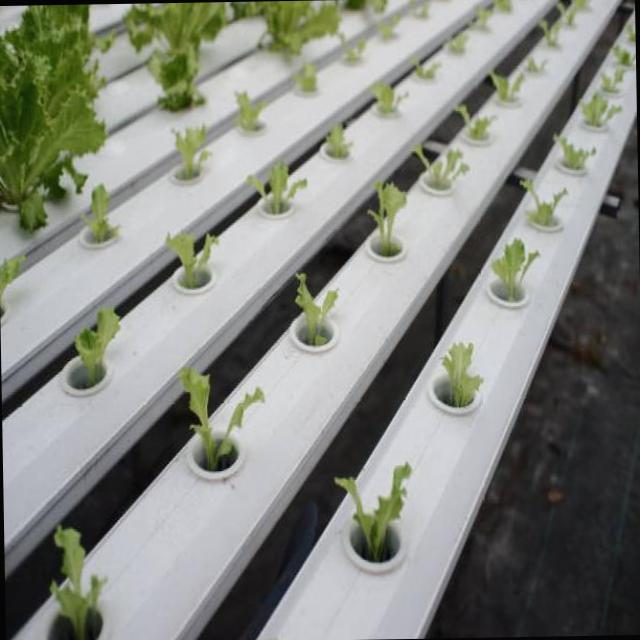Lettuce-Not-Ready-to-Harvest: (178, 367, 264, 471), (334, 466, 410, 561), (51, 526, 103, 640), (74, 309, 119, 385), (490, 238, 538, 302), (295, 273, 337, 344), (166, 233, 217, 291), (248, 163, 306, 213), (368, 181, 405, 257), (442, 344, 481, 407), (413, 146, 467, 190), (87, 185, 117, 243), (175, 126, 206, 173), (529, 190, 567, 225), (556, 136, 595, 170), (580, 93, 618, 127), (456, 105, 492, 140), (236, 93, 265, 130), (322, 123, 350, 159), (490, 73, 523, 103), (372, 81, 402, 114), (377, 14, 401, 40), (293, 64, 316, 91), (613, 44, 636, 67), (471, 5, 492, 30), (557, 2, 576, 27), (601, 69, 623, 90), (408, 0, 430, 19), (416, 60, 438, 77), (542, 24, 557, 46), (446, 32, 466, 48), (345, 43, 362, 60), (527, 58, 546, 73), (491, 0, 512, 13), (625, 23, 635, 44)
Lettuce-Ready-to-Harvest: (0, 4, 106, 229), (123, 2, 226, 110), (231, 0, 340, 58)
